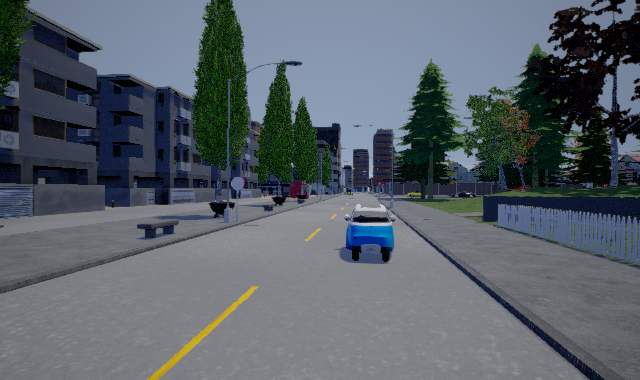traffic_light: (379, 182, 381, 188)
vehicle: (344, 203, 395, 262)
